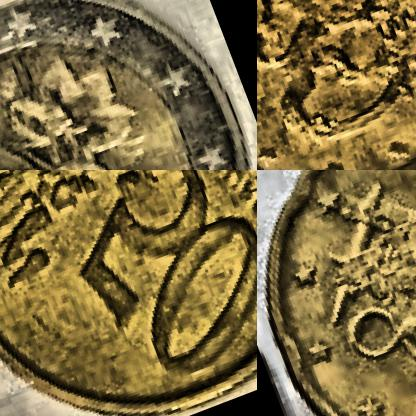coin: (0, 170, 256, 415), (0, 0, 256, 169), (257, 170, 415, 415), (257, 0, 415, 169)
